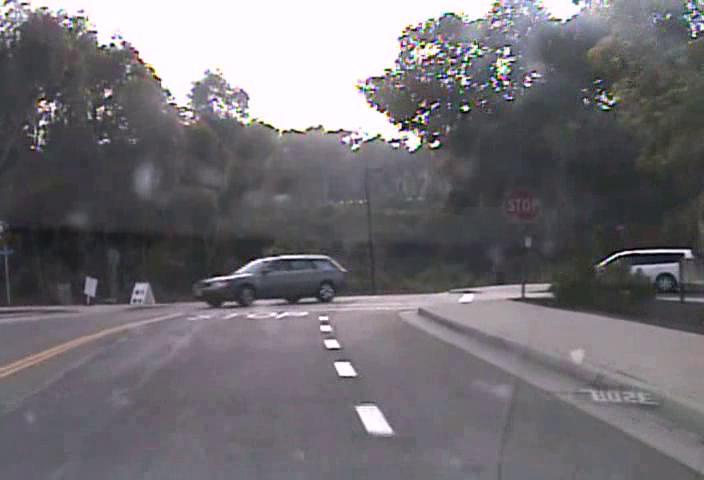stop: (502, 187, 542, 224)
